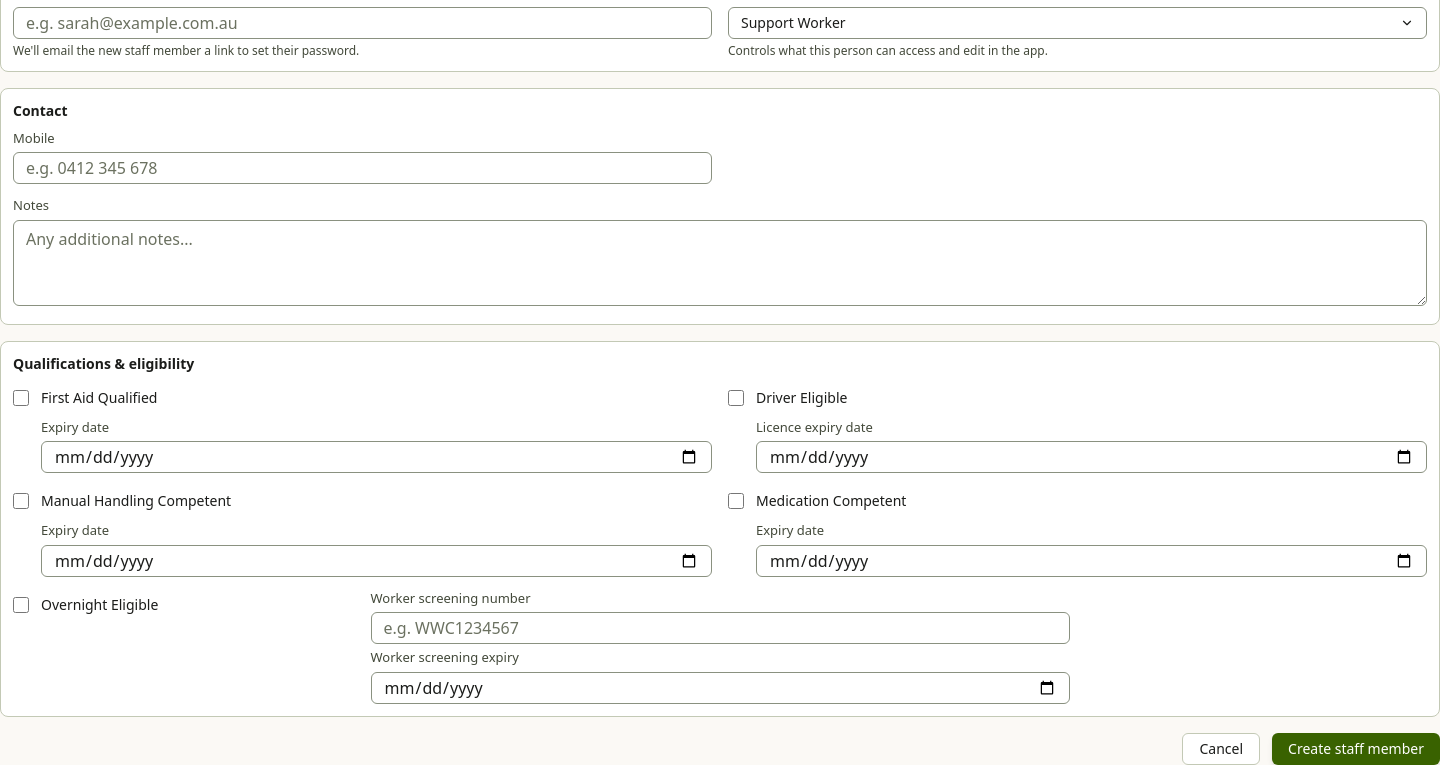
Test: zodResolver forms: empty submit › StaffCreatePage shows the field errors and throws nothing
(page scrolled)
What coordinates should you click on to do the following:
click the button "Create staff member"
I would click on:
 (1356, 748)
Its box is x1=1272 y1=732 x2=1439 y2=764.
(page scrolled)
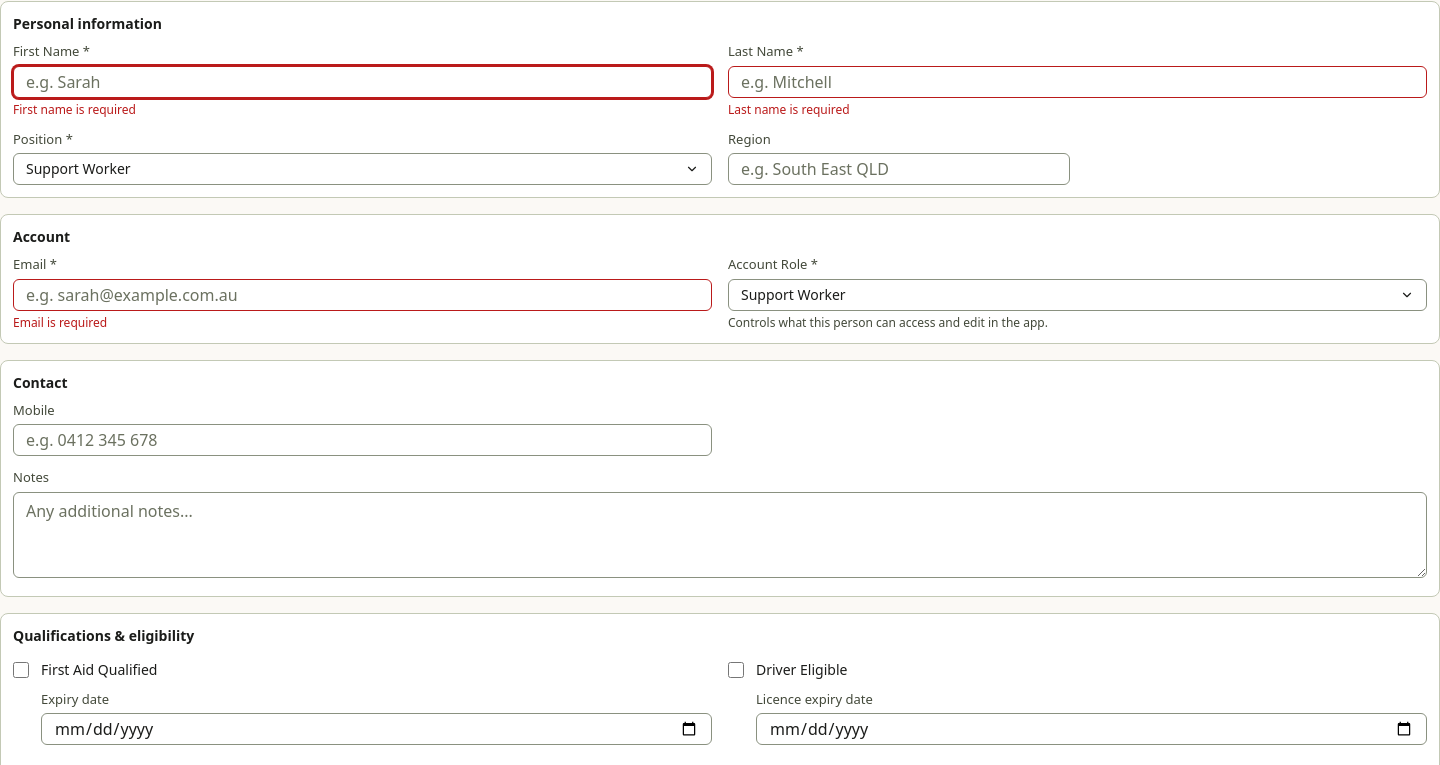
expect the text "First name is required" is shown: met, box x1=13 y1=100 x2=136 y2=118
expect the text "Last name is required" is shown: met, box x1=728 y1=100 x2=850 y2=118
